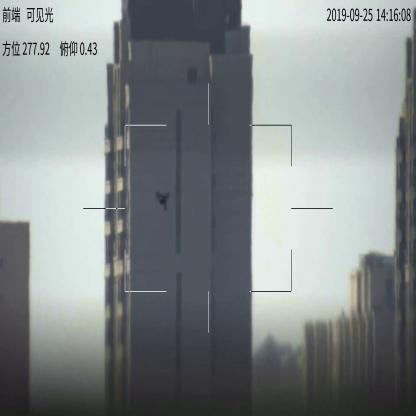uav: (156, 190, 170, 210)
